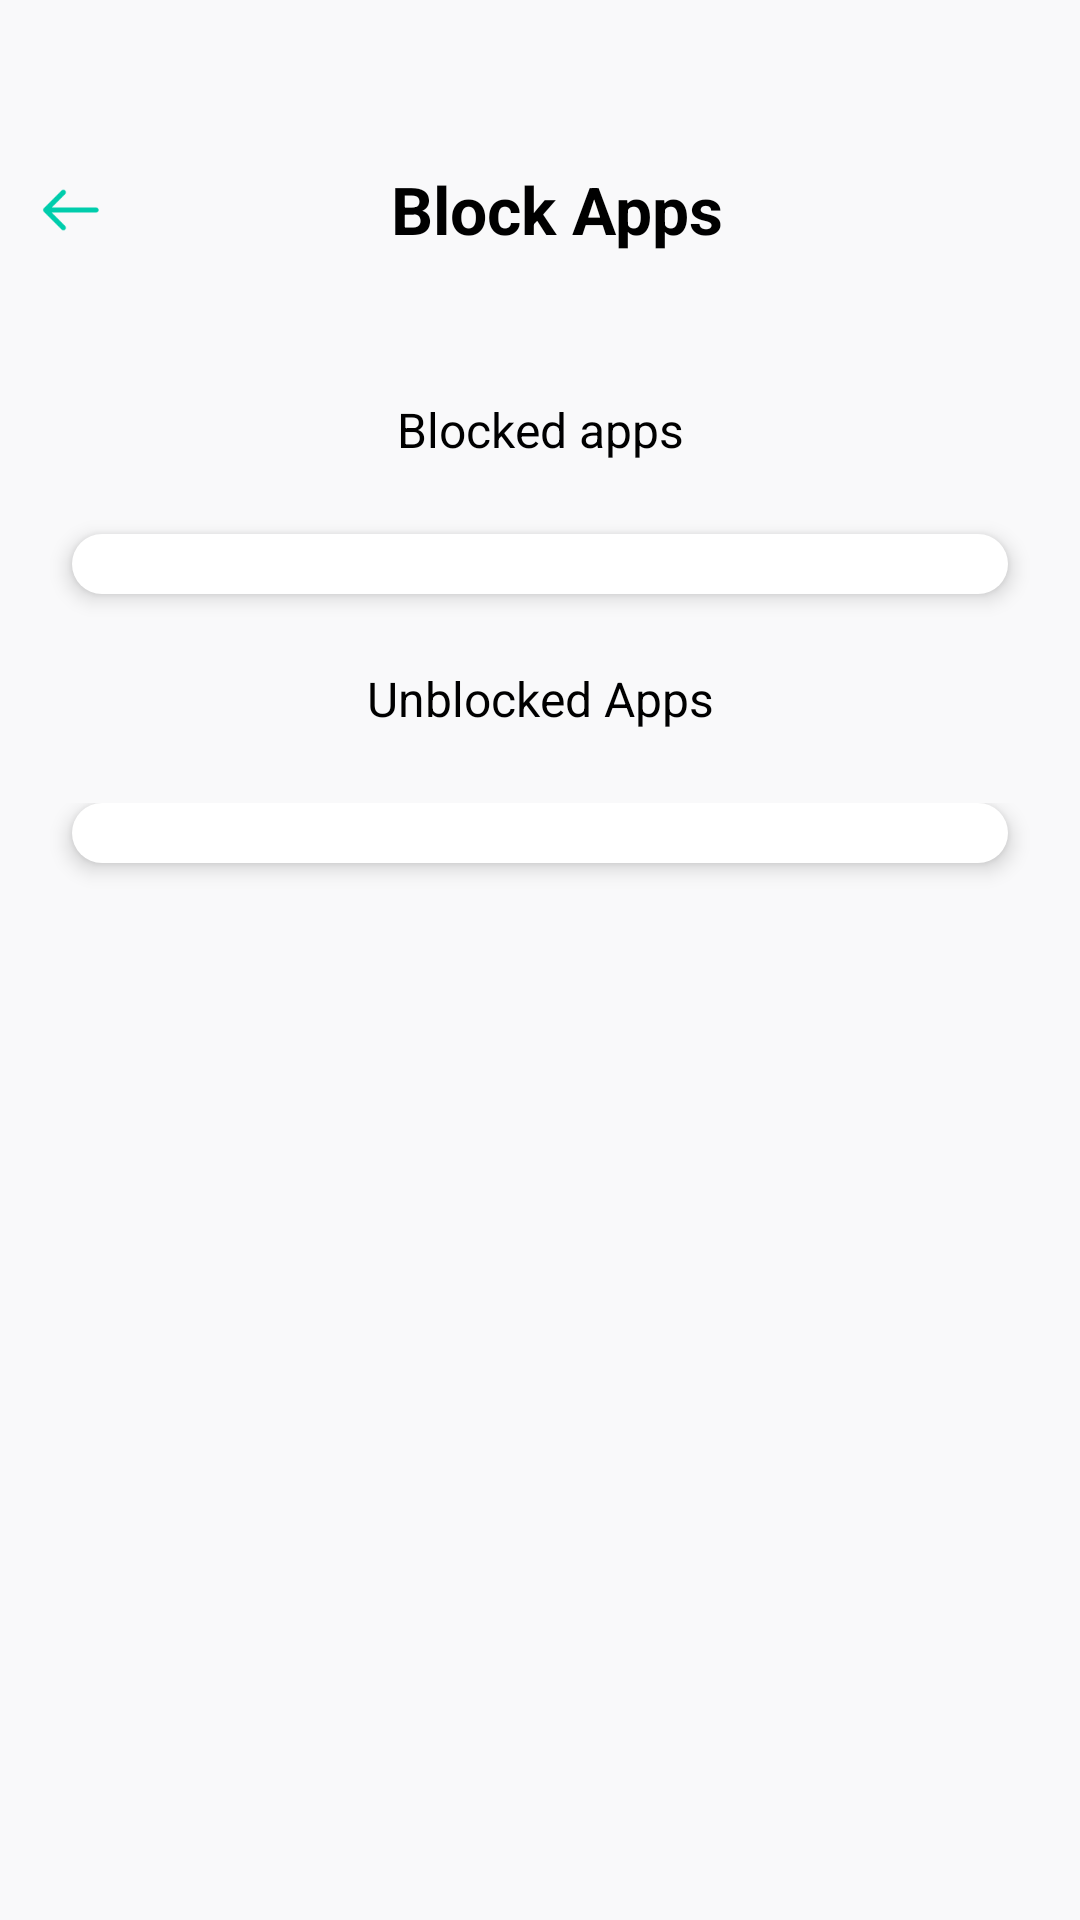

Locate icon controls on the screen. Image size 1080 x 1920, boxes as {"left": x1, "top": y1, "right": x2, "bottom": y2}.
left arrow: {"left": 43, "top": 189, "right": 99, "bottom": 231}
